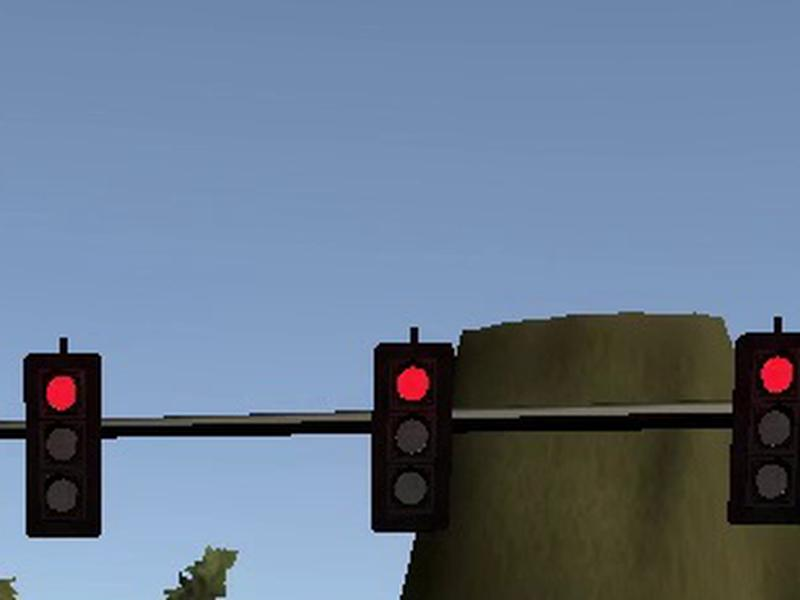Red: (370, 342, 453, 532), (27, 354, 101, 538), (731, 331, 798, 520)
